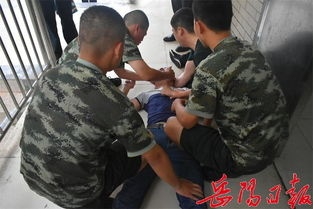falling: (119, 50, 197, 203)
